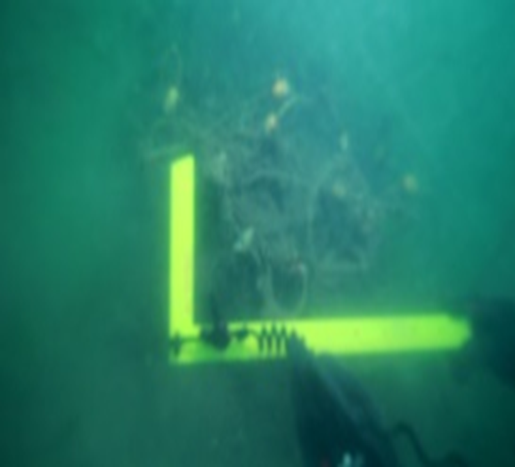fishing net: (113, 51, 421, 313)
